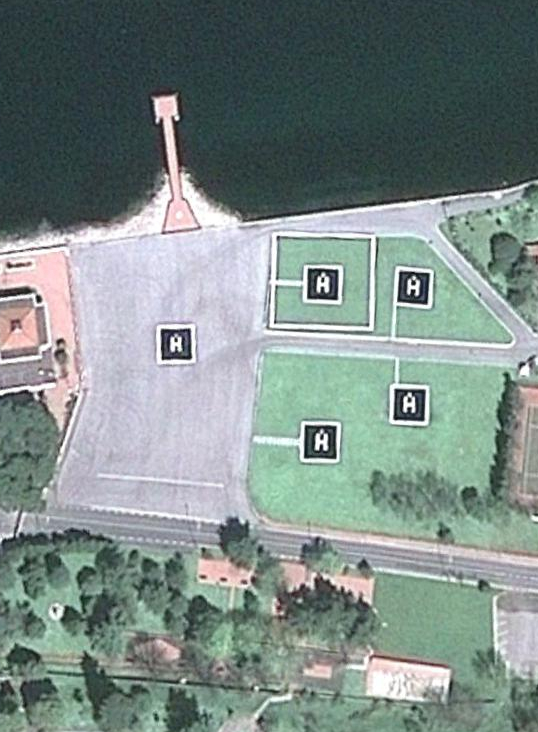heliport: (308, 429, 332, 453), (398, 391, 421, 416), (404, 274, 425, 299), (167, 332, 187, 356), (314, 273, 332, 293)
